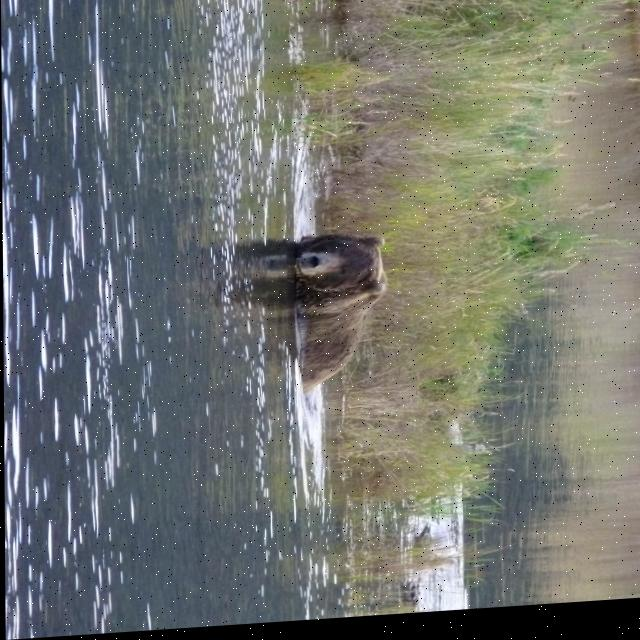bear face: (295, 237, 388, 387)
